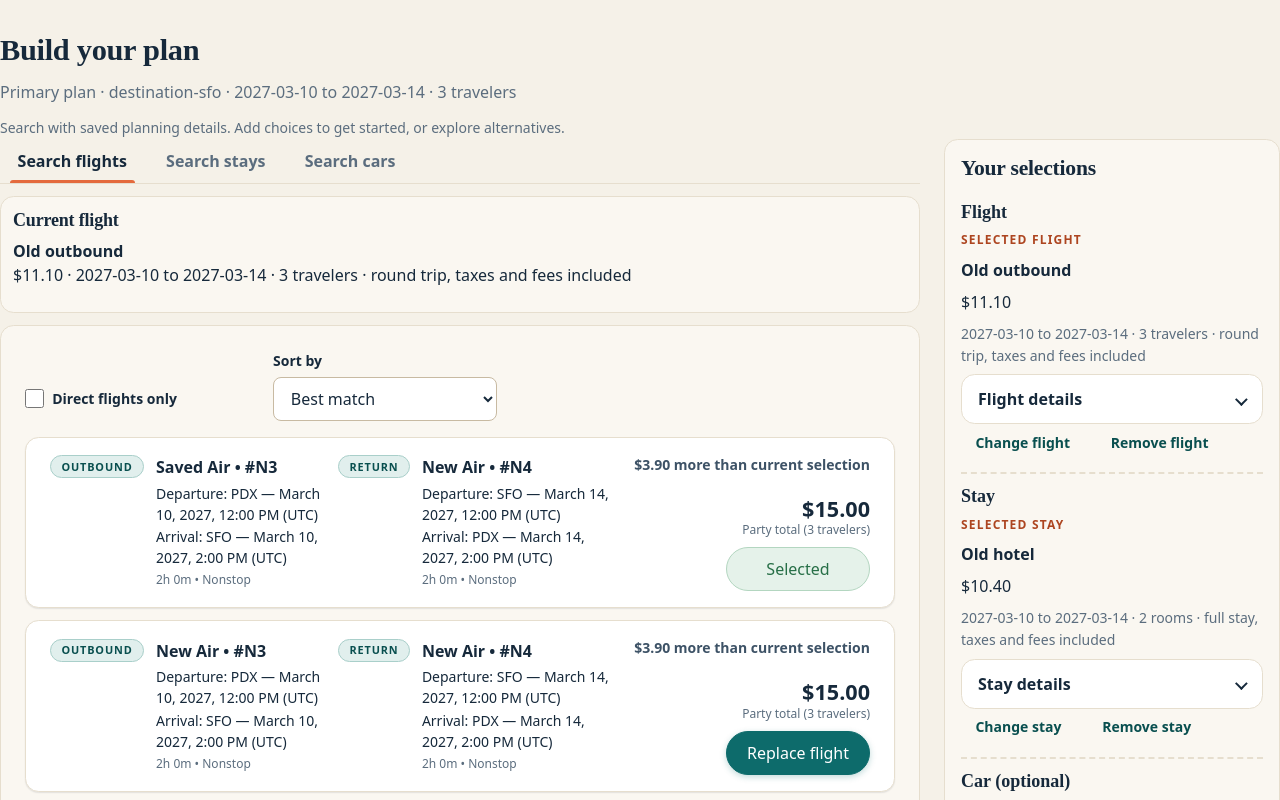
selected search results first › pins saved flights while preserving alternative order after sort changes
Check: the button "Selected" is disabled, box [726,548,870,592]
Check: the element that starts with "Outbound" shows "New Air", box [156,640,219,662]
Select "Lowest price" in the dropdown labelled "Sort by" at (385, 399), box [273,377,497,421]
(page scrolled)
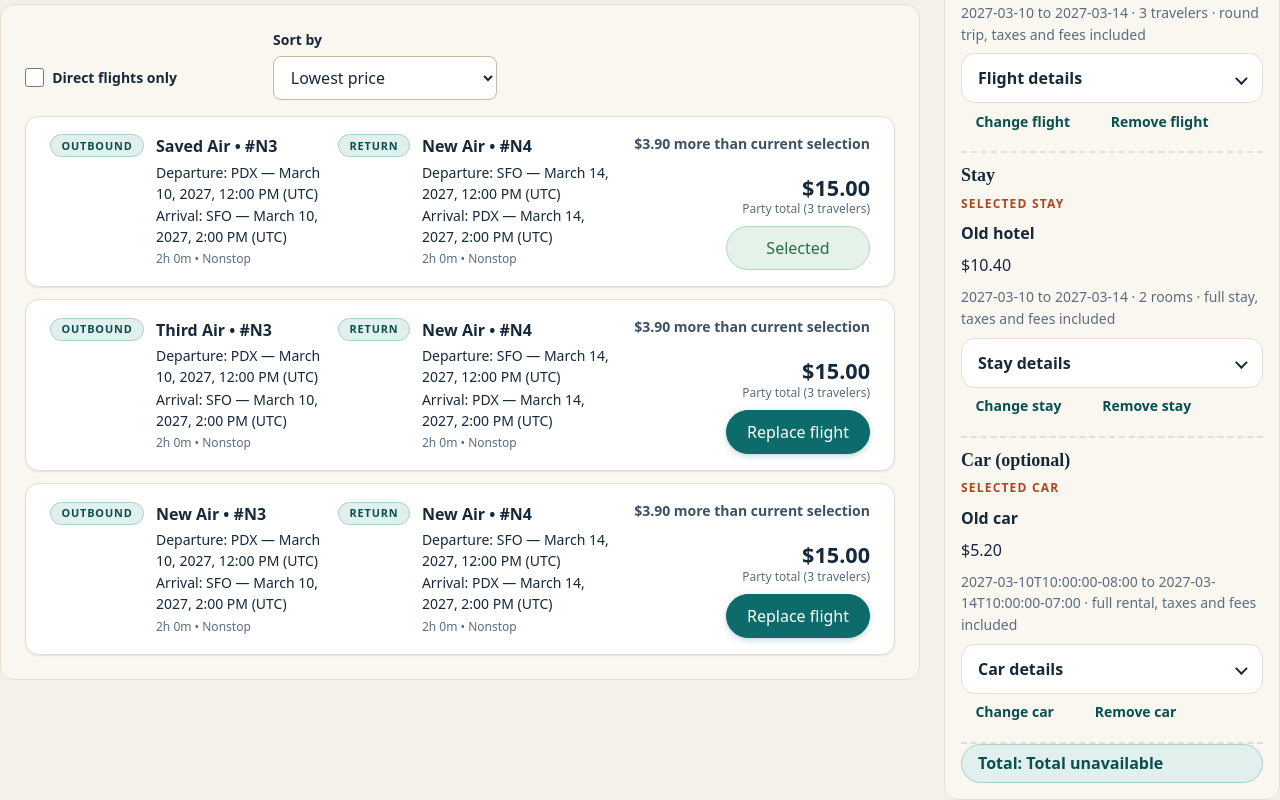
Check: the button "Selected" is shown, box [726,226,870,270]
Check: the element that starts with "Outbound" shows "Third Air", box [156,319,225,341]
